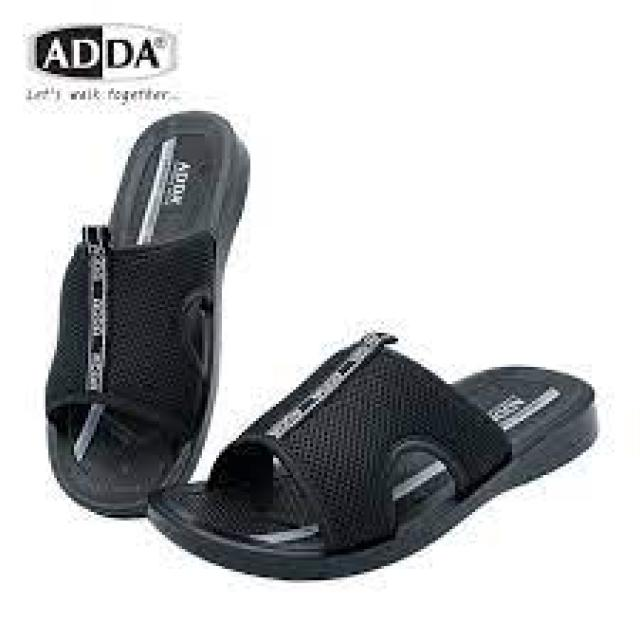shoes: (40, 110, 605, 592), (139, 332, 603, 576), (42, 109, 245, 509)
